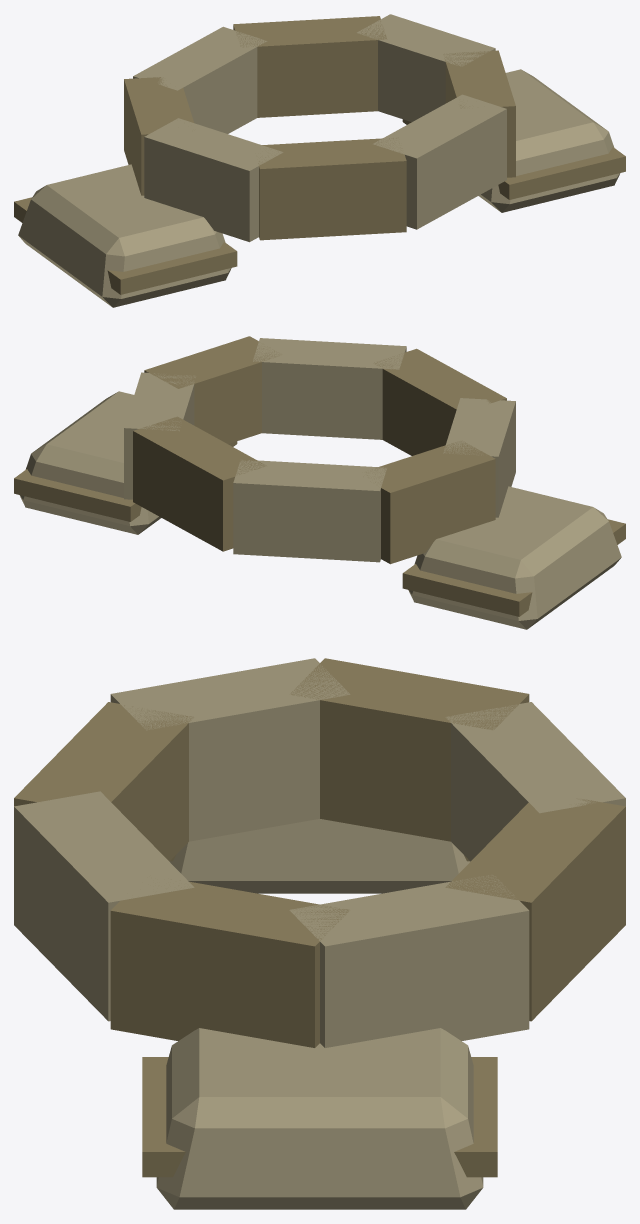
Rendered from mod_armor_padding.glb.
The picture shows the model from 3 angles, top to bottom: view 1: azimuth 30°, elevation 25°; view 2: azimuth 150°, elevation 25°; view 3: azimuth 270°, elevation 25°; orthographic projection. The views are drawn at different scales.
Visible parts, largest first — view 1: padding; view 2: padding; view 3: padding.
Part boxes in pixels (x1=…): padding: x1=14, y1=14, x2=625, y2=307; padding: x1=14, y1=336, x2=625, y2=629; padding: x1=14, y1=658, x2=625, y2=1209.
Size of the model in its own units: 0.5345 by 0.12 by 0.3271.
